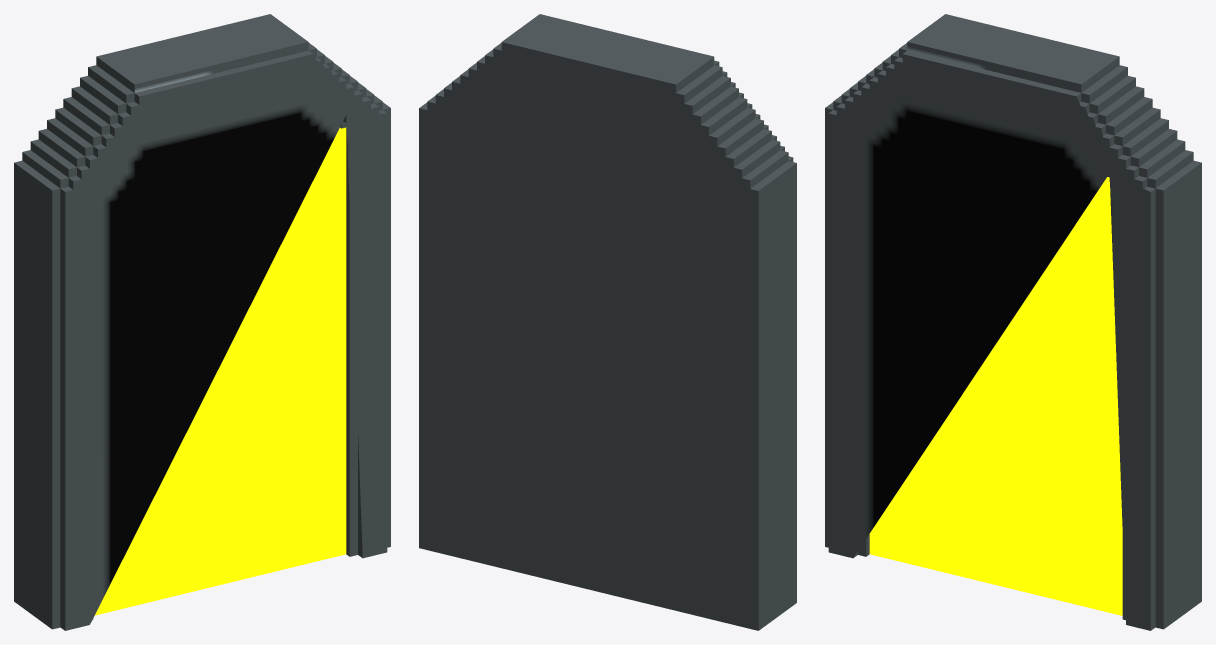
File: Model_Gate.fbx
3 views of the same model, side by side, from view 1: azimuth 30°, elevation 25°; view 2: azimuth 150°, elevation 25°; view 3: azimuth 330°, elevation 25° (orthographic).
Visible parts, largest first — view 1: Model_Gate; view 2: Model_Gate; view 3: Model_Gate.
Boxes of the visible parts, left/top/right/bottom form: Model_Gate: left=14, top=14, right=390, bottom=630; Model_Gate: left=419, top=14, right=796, bottom=630; Model_Gate: left=825, top=14, right=1201, bottom=630.
Bounding box in the file's own units: 204 × 302 × 44.82.
